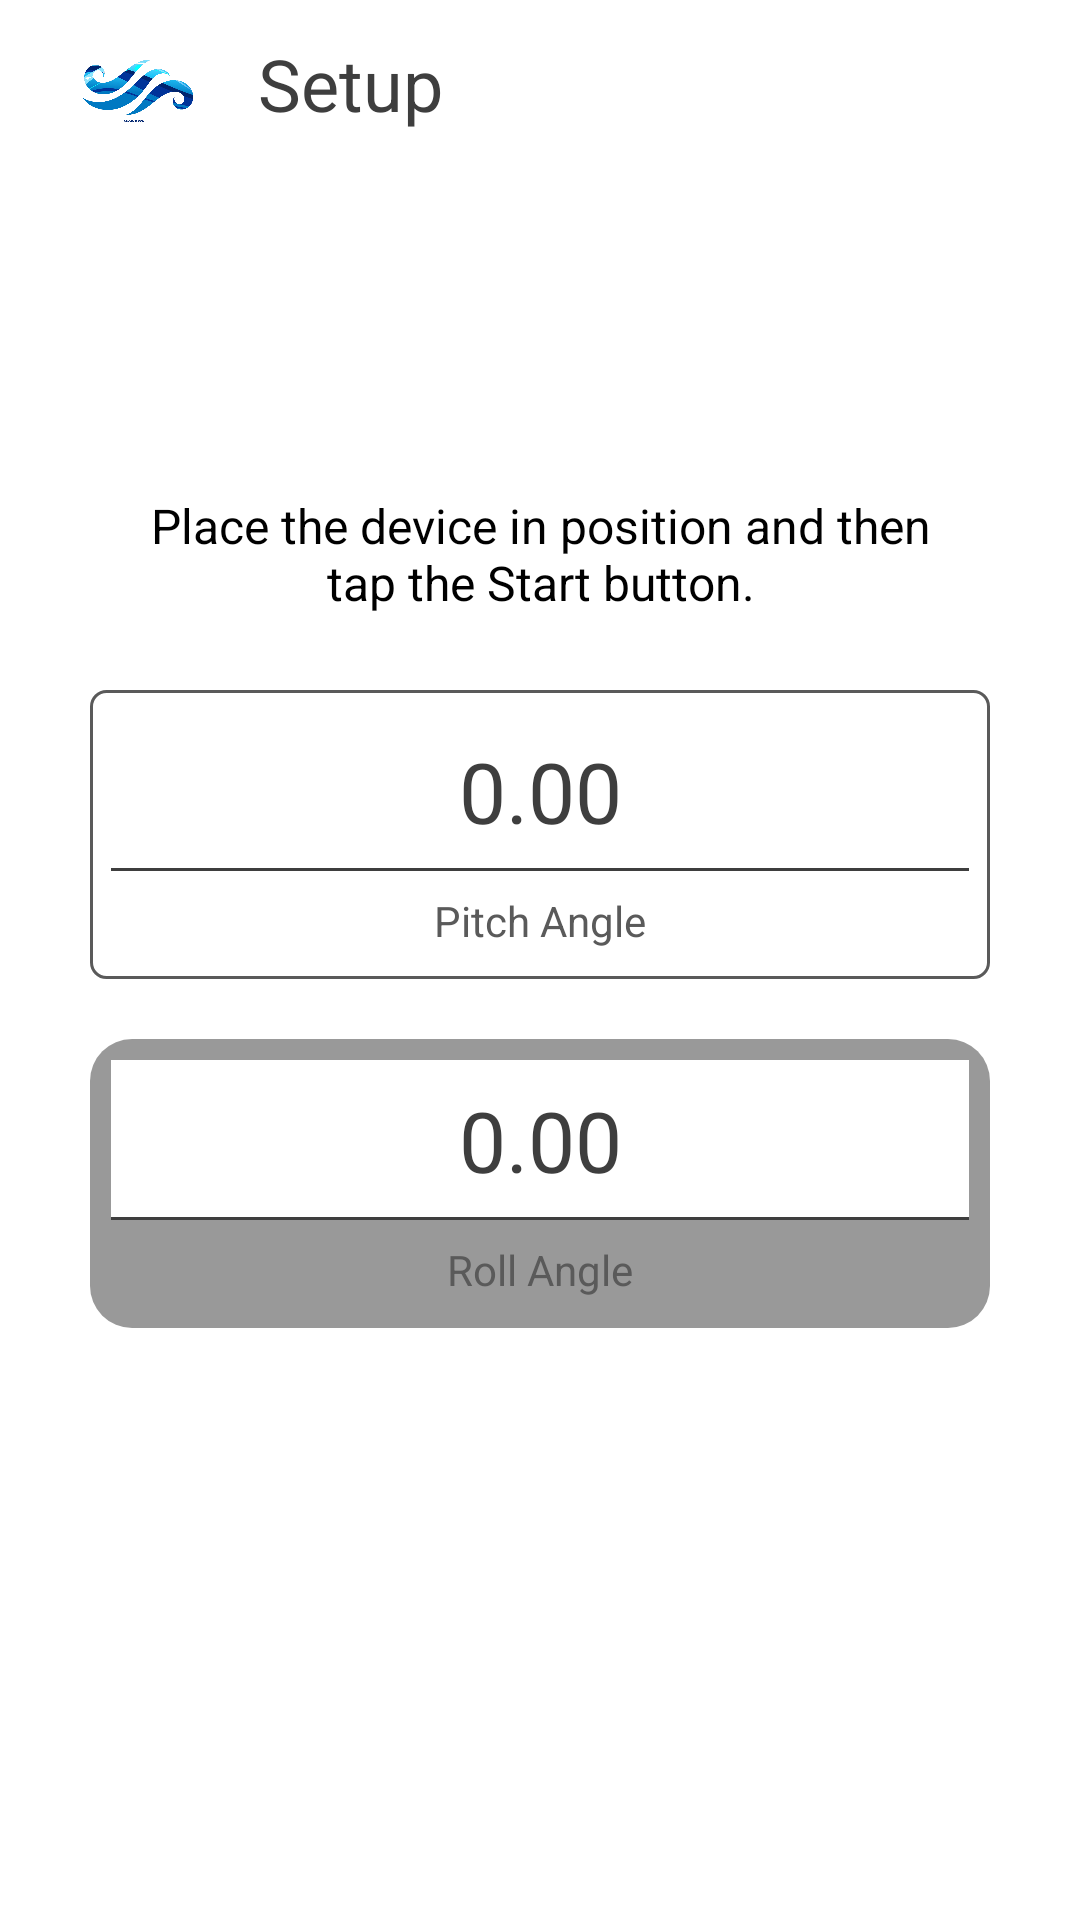

Named icons in this screenshot (1080x1920) and their bounding boxes, (x1, y1, x2, y2):
seawaves: (83, 60, 193, 122)
